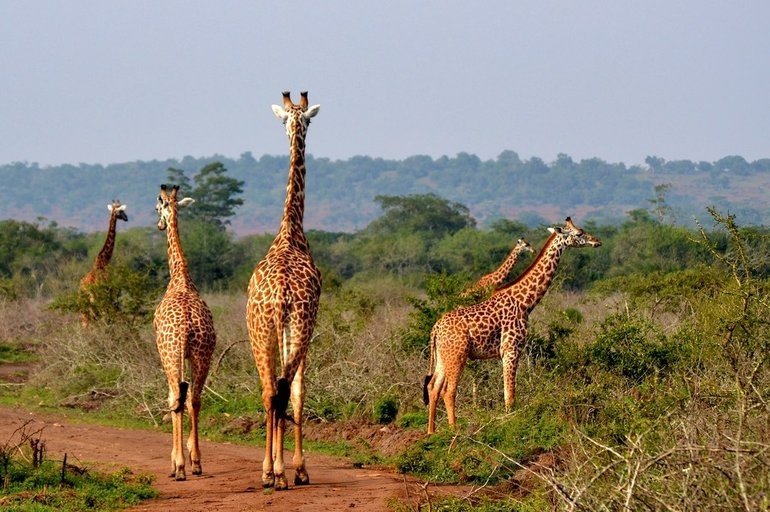giraffe: (419, 214, 607, 453), (237, 87, 327, 492), (150, 182, 226, 480), (75, 194, 132, 345), (447, 237, 539, 308)
